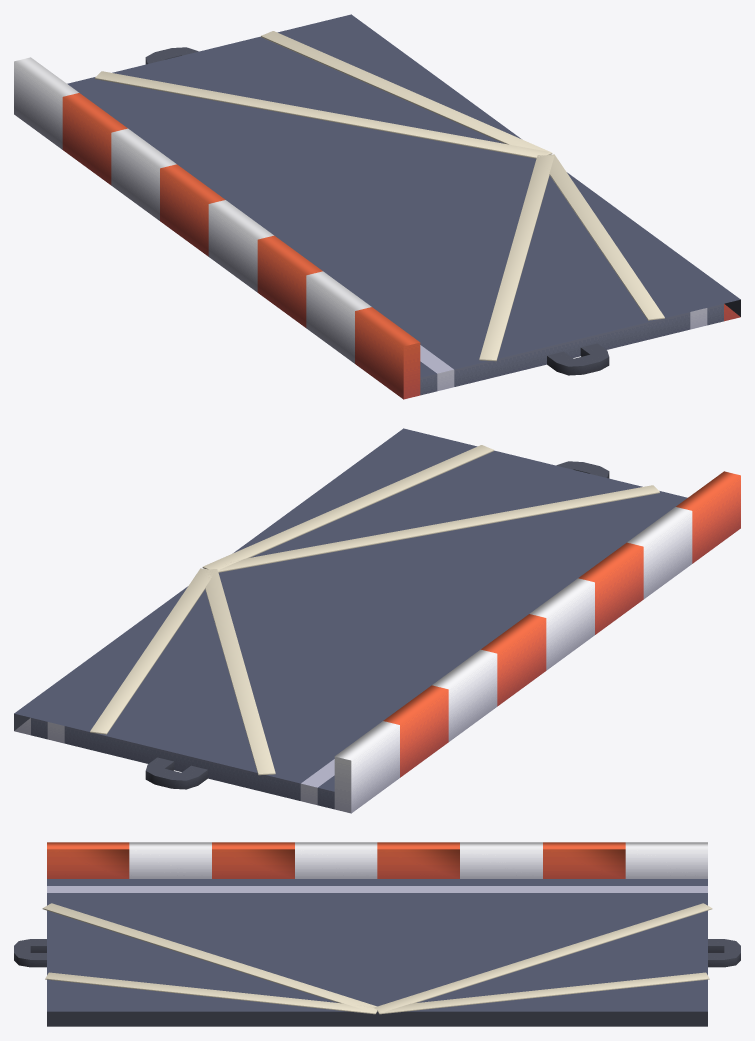
Rendered from cruzamento.glb.
The picture shows the model from 3 angles, top to bottom: view 1: azimuth 30°, elevation 25°; view 2: azimuth 150°, elevation 25°; view 3: azimuth 270°, elevation 25°; orthographic projection. The views are drawn at different scales.
Parts seen in each view (by area): view 1: cruzamento; view 2: cruzamento; view 3: cruzamento.
Boxes of the visible parts, x1,y1,x2,y2 form: cruzamento: [14, 14, 740, 399]; cruzamento: [14, 428, 740, 813]; cruzamento: [14, 842, 740, 1026].
Bounding box in the file's own units: 2.04 × 0.3 × 4.4.
2 materials, 1 textured.
